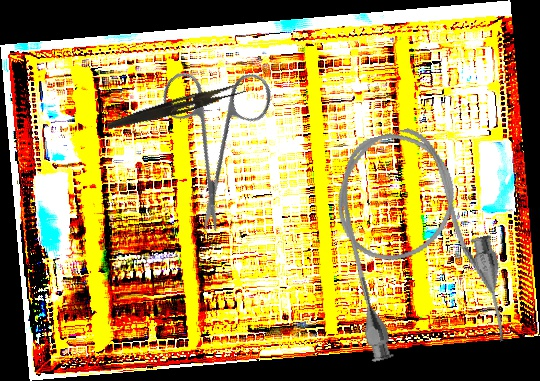Cannula: (315, 114, 519, 376)
Dressing Forceps: (106, 77, 246, 137)
Iris Scissors: (112, 32, 319, 238)
